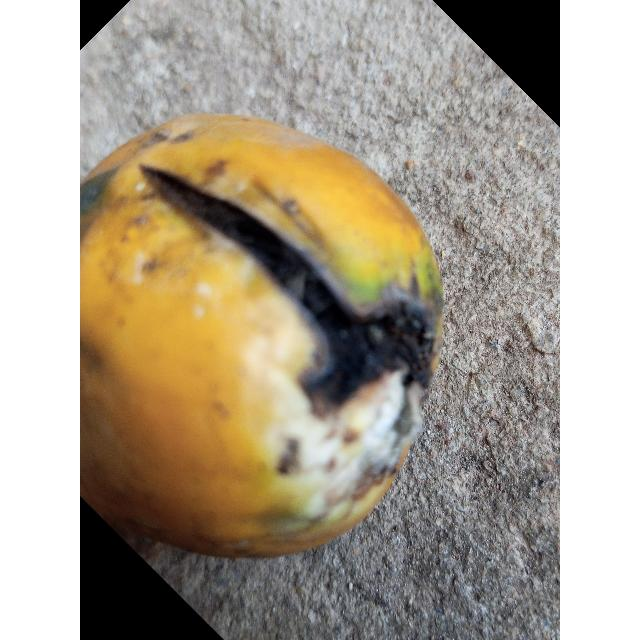damaged: (80, 115, 443, 557)
